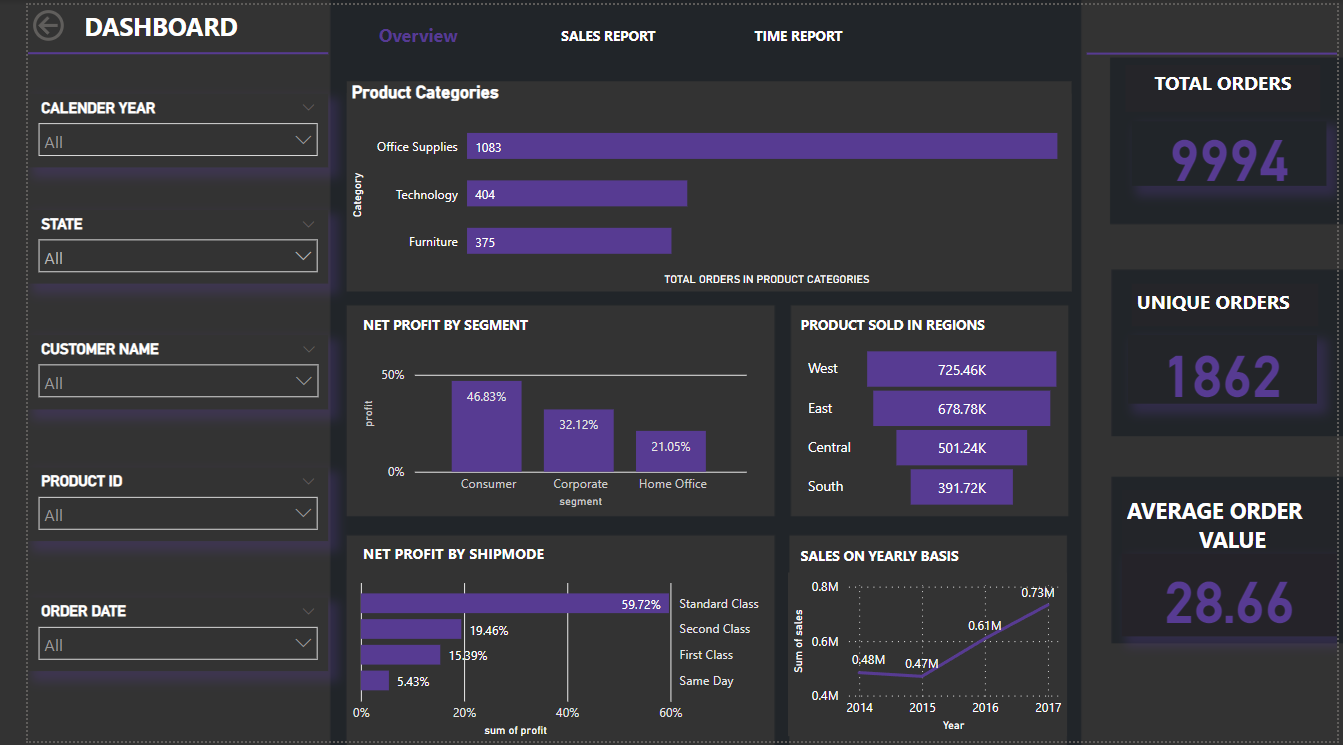

This screenshot's page, from the dashboard's own definition file:
{"tool":"powerbi","page":{"name":"Overview","canvas":[1280,720],"ordinal":0},"visuals":[{"type":"actionButton","box":[0,0,50.1,40.3],"z":0},{"type":"textbox","box":[331.6,296.7,186.2,31.4],"z":1000},{"type":"textbox","box":[322.7,522,218.8,30.6],"z":2000},{"type":"textbox","box":[750.6,298.3,215.1,30.6],"z":3000},{"type":"textbox","box":[750.8,524.3,220.3,30.8],"z":4000},{"type":"textbox","box":[1062.4,64,190.8,45.4],"z":5000},{"type":"textbox","box":[1062.4,278.1,182.7,40.7],"z":6000},{"type":"columnChart","fields":{"Category":["data_analysis customer_dim.segment"],"Y":["CountNonNull(data_analysis orderfact.profit)"]},"box":[331.6,330.5,385.2,167.6],"z":7000},{"type":"barChart","fields":{"Y":["CountNonNull(data_analysis orderfact.profit)"],"Category":["data_analysis shipmode_dim.ShipMode"]},"box":[322.3,552.7,403.8,167.6],"z":8000},{"type":"funnel","fields":{"Category":["data_analysis geography_dim.Region"],"Y":["Sum(data_analysis orderfact.sales)"]},"box":[743.6,329.3,251.3,167.6],"z":9000},{"type":"lineChart","fields":{"Y":["Sum(data_analysis orderfact.sales)"],"Category":["data_analysis order_dim.OrderDate.Variation.Date Hierarchy.Year"]},"box":[750.5,560.9,244.4,159.4],"z":10000},{"type":"textbox","box":[322.3,87.3,684.2,193.2],"z":11000},{"type":"barChart","title":"Product Categories ","fields":{"Category":["data_analysis product_dim.Category"],"Y":["CountNonNull(data_analysis product_dim.Sub_Category)"]},"box":[322.3,76.8,684.2,206],"z":12000},{"type":"textbox","box":[50.1,0,190.7,46.5],"z":13000},{"type":"card","fields":{"Values":["CountNonNull(data_analysis orderfact.sales)"]},"box":[1063.6,121,189.7,62.8],"z":14000},{"type":"card","fields":{"Values":["Count(data_analysis orderfact.ProductID)"]},"box":[1069.4,330.5,183.9,67.5],"z":15000},{"type":"textbox","box":[1051.9,475.9,210.6,76.8],"z":16000},{"type":"card","fields":{"Values":["data_analysis orderfact.Sum of profit divided by Count of sales"]},"box":[1056.6,539.9,210.6,81.5],"z":17000},{"type":"slicer","fields":{"Values":["data_analysis geography_dim.state"]},"box":[0,200.6,281.7,72.1],"z":18000},{"type":"slicer","fields":{"Values":["LocalDateTable_2fb53911-9730-4717-8495-35f770c958fc.Year"]},"box":[0,86.8,281.7,72.1],"z":19000},{"type":"slicer","fields":{"Values":["data_analysis customer_dim.CustomerName"]},"box":[0,323.4,273.8,72.1],"z":20000},{"type":"slicer","fields":{"Values":["data_analysis orderfact.ProductID"]},"box":[0,451.8,273.8,72.1],"z":21000},{"type":"slicer","fields":{"Values":["LocalDateTable_2fb53911-9730-4717-8495-35f770c958fc.Date"]},"box":[0,579.2,273.8,72.1],"z":22000},{"type":"pageNavigator","box":[311.9,0,549.2,41.9],"z":23000},{"type":"shape","box":[12.8,20.9,293.2,54.7],"z":24000},{"type":"shape","box":[1035.4,18.3,244.5,58.7],"z":25000}]}

Visuals, with their boxes in screenshot pixels (x1, y1, x2, y2), scaled from the page's 1280x720 canvas onto the 1343x745 screenshot:
actionButton: bbox=(0, 0, 53, 42)
textbox: bbox=(348, 307, 543, 339)
textbox: bbox=(339, 540, 568, 572)
textbox: bbox=(788, 309, 1013, 340)
textbox: bbox=(788, 543, 1019, 574)
textbox: bbox=(1115, 66, 1315, 113)
textbox: bbox=(1115, 288, 1306, 330)
columnChart - data_analysis customer_dim.segment x CountNonNull(data_analysis orderfact.profit): bbox=(348, 342, 752, 515)
barChart - CountNonNull(data_analysis orderfact.profit) x data_analysis shipmode_dim.ShipMode: bbox=(338, 572, 762, 744)
funnel - data_analysis geography_dim.Region x Sum(data_analysis orderfact.sales): bbox=(780, 341, 1044, 514)
lineChart - Sum(data_analysis orderfact.sales) x data_analysis order_dim.OrderDate.Variation.Date Hierarchy.Year: bbox=(787, 580, 1044, 744)
textbox: bbox=(338, 90, 1056, 290)
"Product Categories " barChart: bbox=(338, 79, 1056, 293)
textbox: bbox=(53, 0, 253, 48)
card - CountNonNull(data_analysis orderfact.sales): bbox=(1116, 125, 1315, 190)
card - Count(data_analysis orderfact.ProductID): bbox=(1122, 342, 1315, 412)
textbox: bbox=(1104, 492, 1325, 572)
card - data_analysis orderfact.Sum of profit divided by Count of sales: bbox=(1109, 559, 1330, 643)
slicer - data_analysis geography_dim.state: bbox=(0, 208, 296, 282)
slicer - LocalDateTable_2fb53911-9730-4717-8495-35f770c958fc.Year: bbox=(0, 90, 296, 164)
slicer - data_analysis customer_dim.CustomerName: bbox=(0, 335, 287, 409)
slicer - data_analysis orderfact.ProductID: bbox=(0, 467, 287, 542)
slicer - LocalDateTable_2fb53911-9730-4717-8495-35f770c958fc.Date: bbox=(0, 599, 287, 674)
pageNavigator: bbox=(327, 0, 903, 43)
shape: bbox=(13, 22, 321, 78)
shape: bbox=(1086, 19, 1342, 80)
